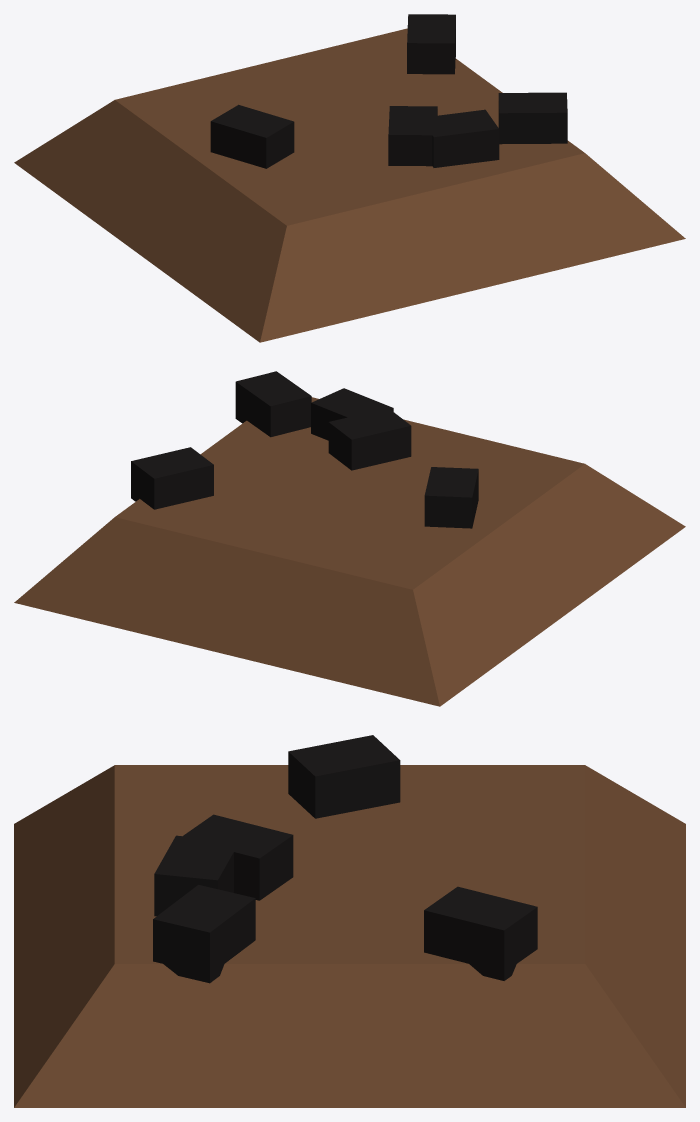
Rendered from watermelon_0.obj.
The picture shows the model from 3 angles, top to bottom: view 1: azimuth 30°, elevation 25°; view 2: azimuth 150°, elevation 25°; view 3: azimuth 270°, elevation 25°; orthographic projection. The views are drawn at different scales.
Visible parts, largest first — view 1: plant; view 2: plant; view 3: plant.
Part boxes in pixels (<box>): plant: <box>14,14,685,342</box>; plant: <box>14,371,685,706</box>; plant: <box>14,735,685,1107</box>.
Size of the model in its own units: 0.36 by 0.085 by 0.36.
